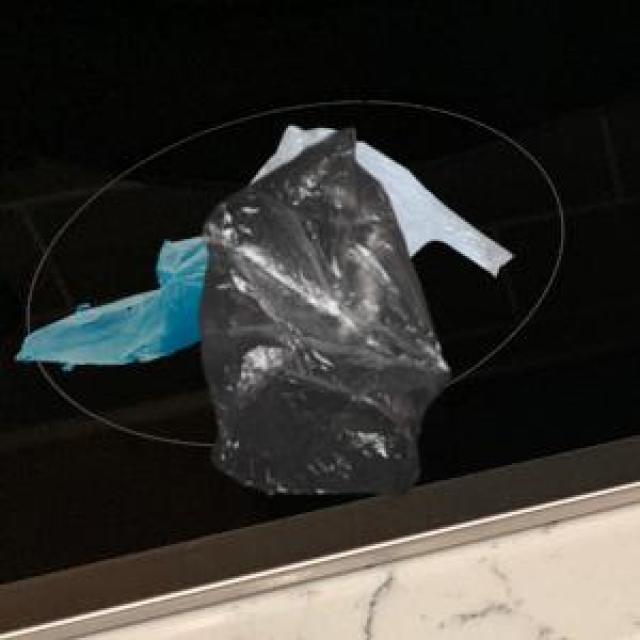waste: (16, 125, 512, 492)
